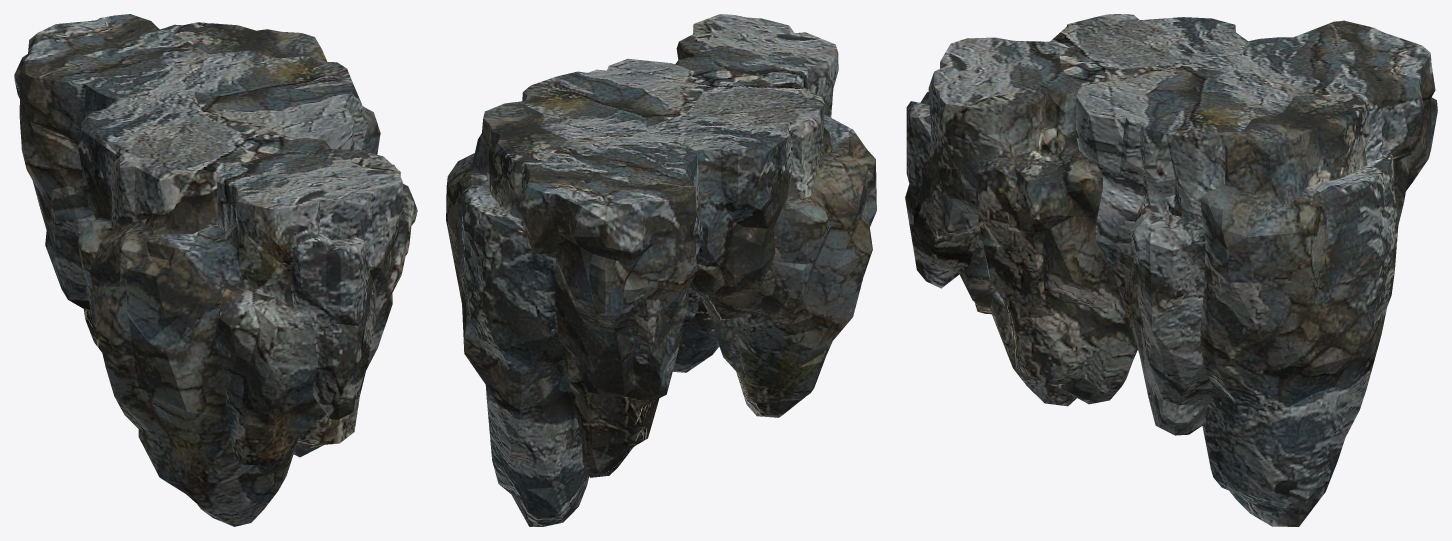
The model's file is bg_anh_mirrorv_rock05_03_sm_old.FBX.
The picture shows the model from 3 angles, left to right: view 1: azimuth 30°, elevation 25°; view 2: azimuth 150°, elevation 25°; view 3: azimuth 270°, elevation 25°; orthographic projection. The views are drawn at different scales.
Parts seen in each view (by area): view 1: bg_anh_mirrorv_rock05_03_sm_old; view 2: bg_anh_mirrorv_rock05_03_sm_old; view 3: bg_anh_mirrorv_rock05_03_sm_old.
Boxes of the visible parts, x1,y1,x2,y2 form: bg_anh_mirrorv_rock05_03_sm_old: [14, 14, 417, 526]; bg_anh_mirrorv_rock05_03_sm_old: [446, 14, 876, 526]; bg_anh_mirrorv_rock05_03_sm_old: [905, 14, 1437, 526].
Size of the model in its own units: 458 by 511 by 599.
